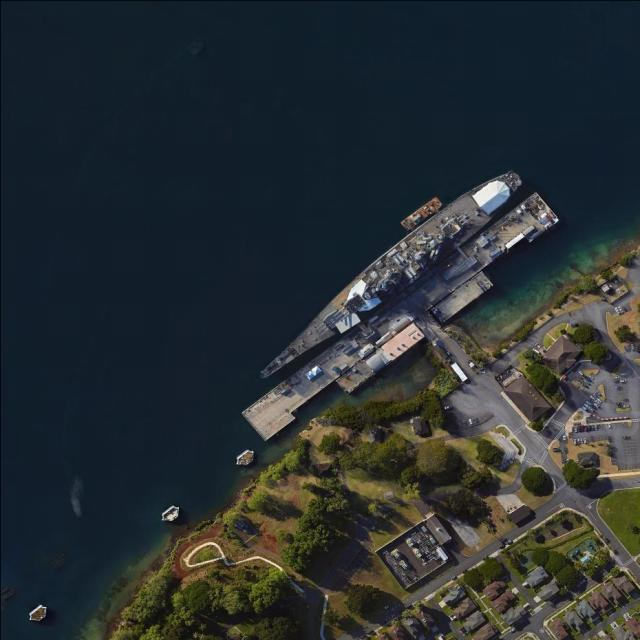Dock: (243, 192, 554, 441)
Other Warship: (249, 158, 529, 395), (399, 195, 445, 233)
